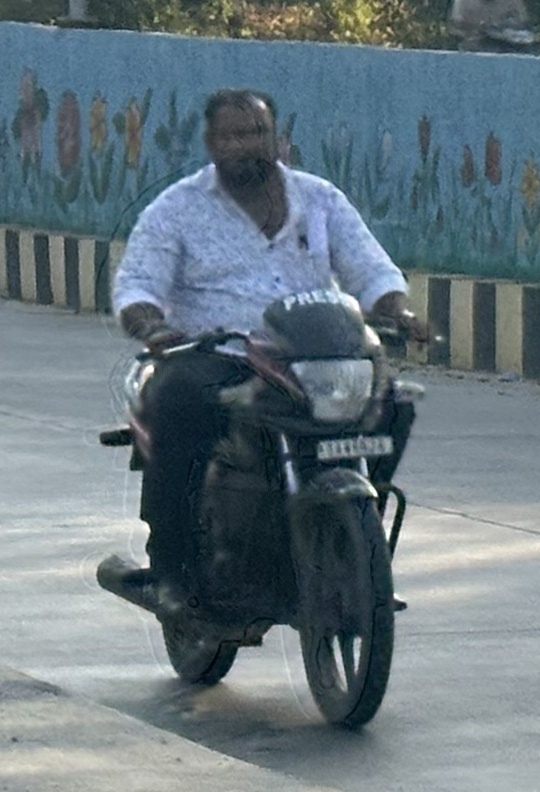BikeWithRider: (82, 78, 454, 739)
NoHelmet: (187, 81, 293, 194)
